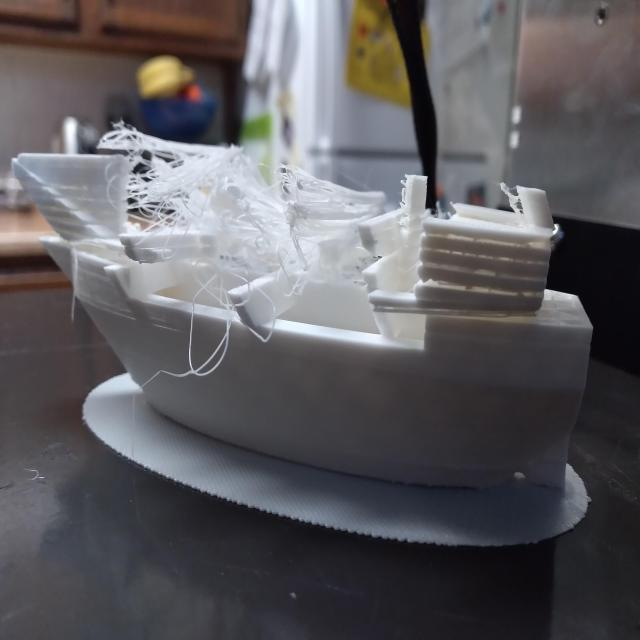Spaghetti: (90, 117, 384, 382)
